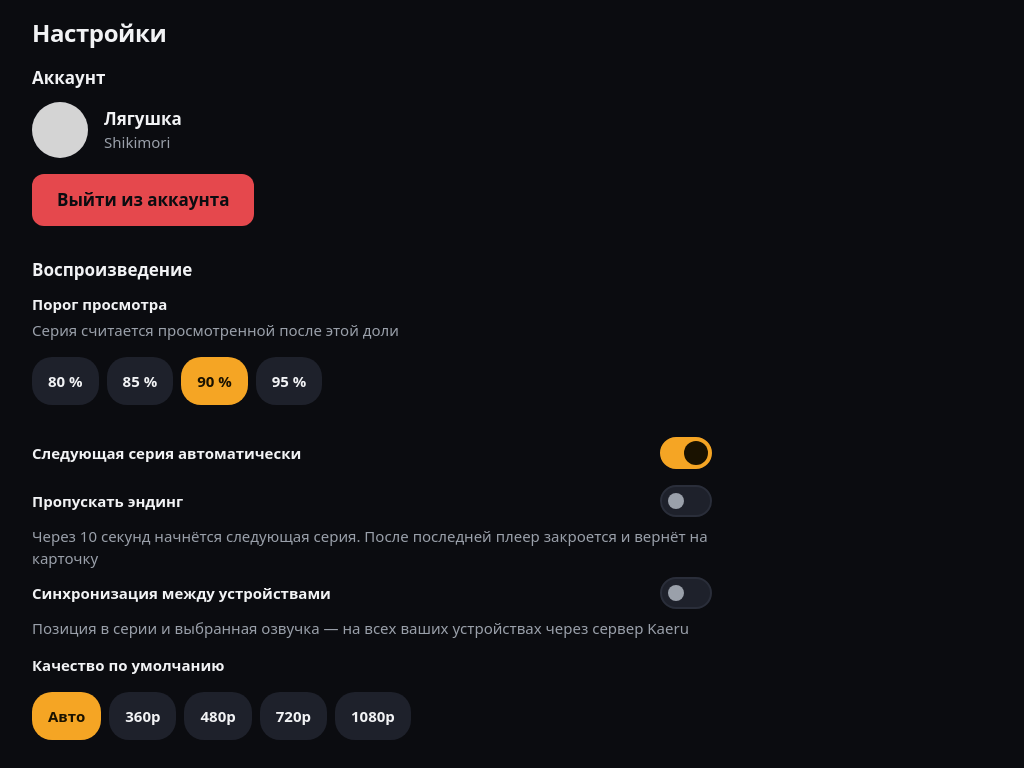
Scenario: SettingsScreen › asks before signing out, and «Отмена» keeps everything
Step 1. Click the button "Выйти из аккаунта" → (143, 200), box top-left (32, 174), bottom-right (254, 226)
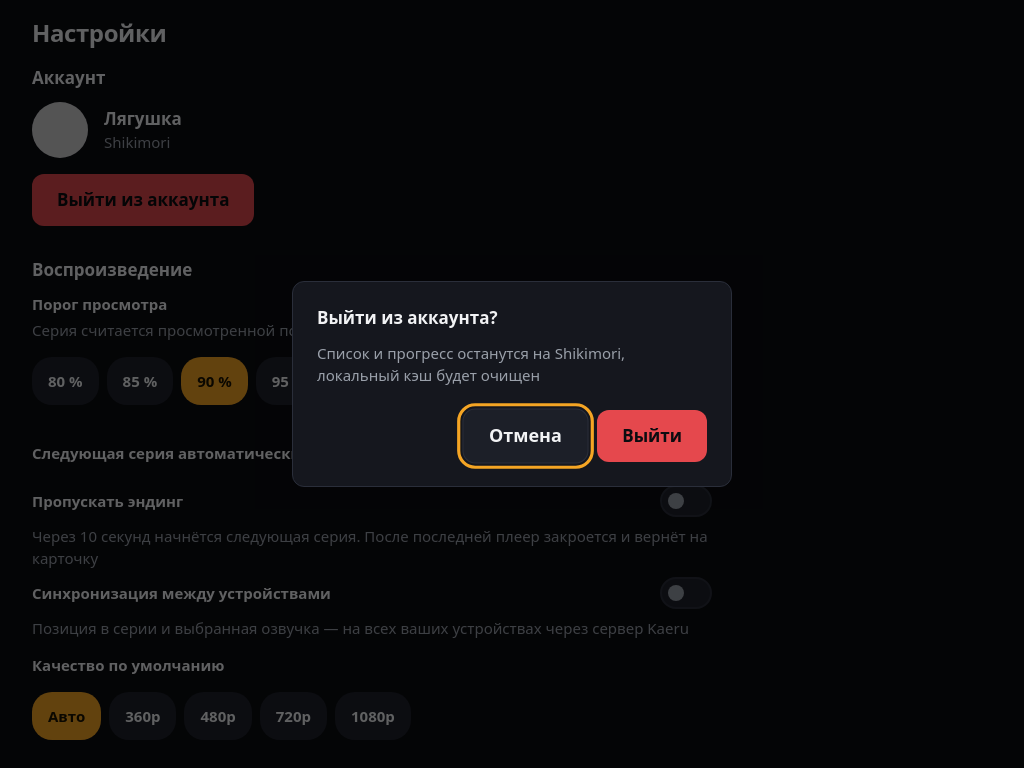
Step 2. Click the button "Отмена" → (526, 436), box top-left (463, 408), bottom-right (589, 464)
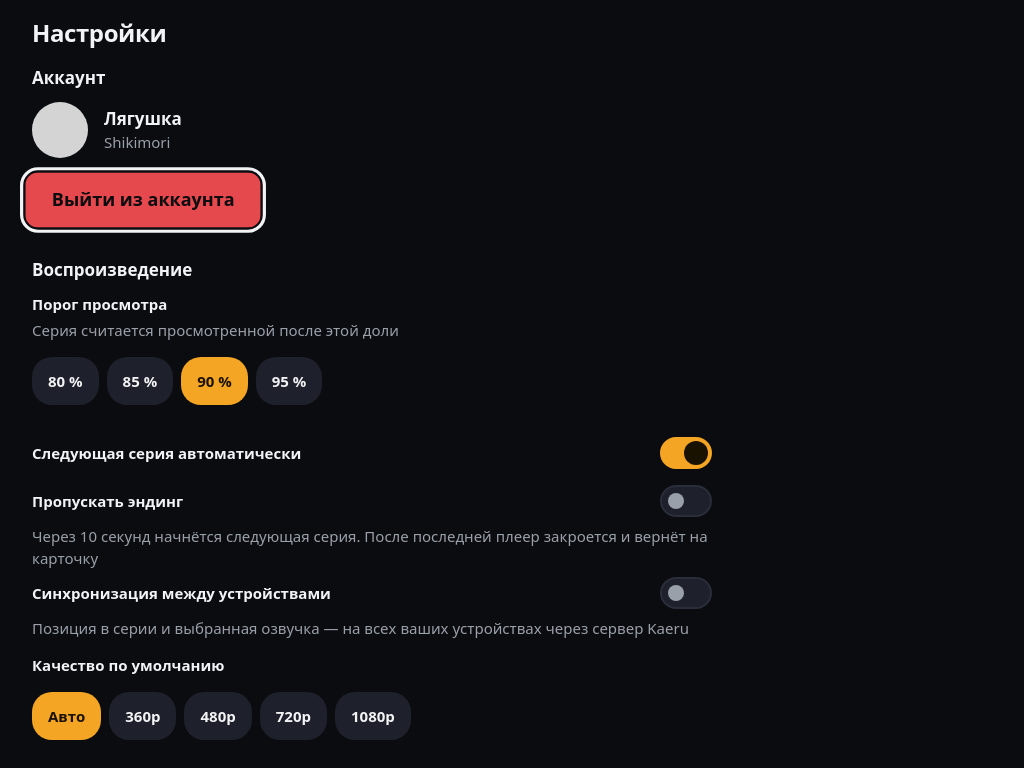
Expected: the dialog is gone
